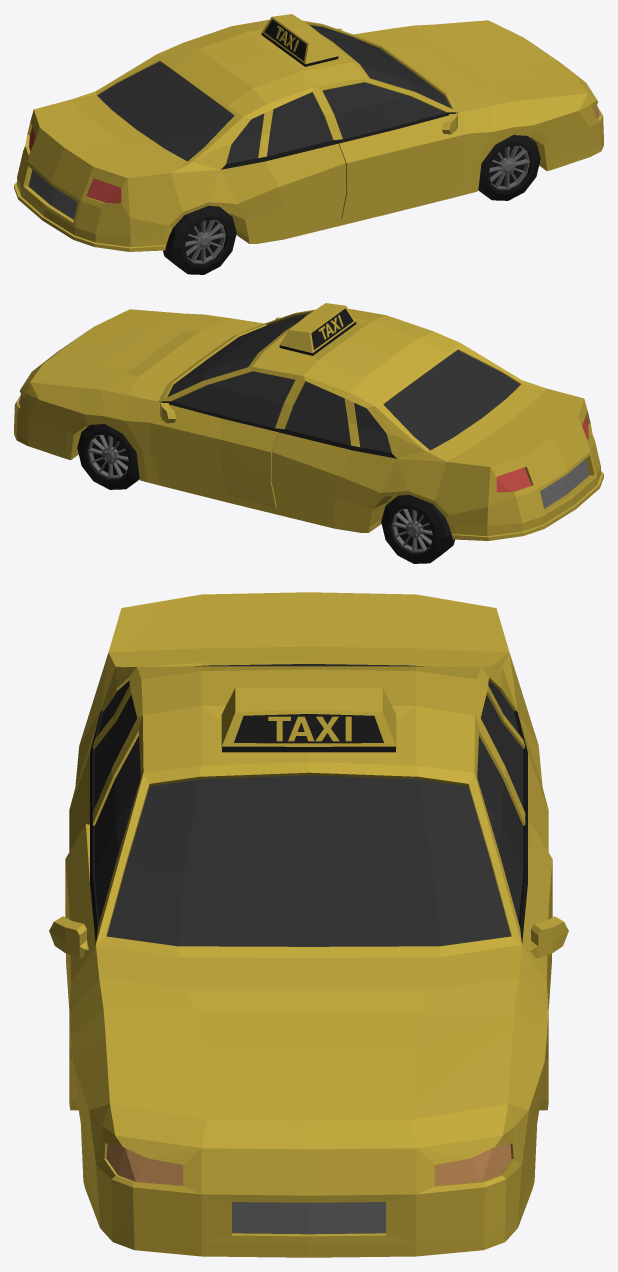
Rendered from taxi.glb.
The picture shows the model from 3 angles, top to bottom: view 1: azimuth 30°, elevation 25°; view 2: azimuth 150°, elevation 25°; view 3: azimuth 270°, elevation 25°; orthographic projection. The views are drawn at different scales.
Visible parts, largest first — view 1: Taxi; view 2: Taxi; view 3: Taxi.
Boxes of the visible parts, x1,y1,x2,y2 form: Taxi: (14,14,603,274); Taxi: (14,303,603,563); Taxi: (49,592,568,1257).
Bounding box in the file's own units: 4.2 × 1.3 × 1.8.
